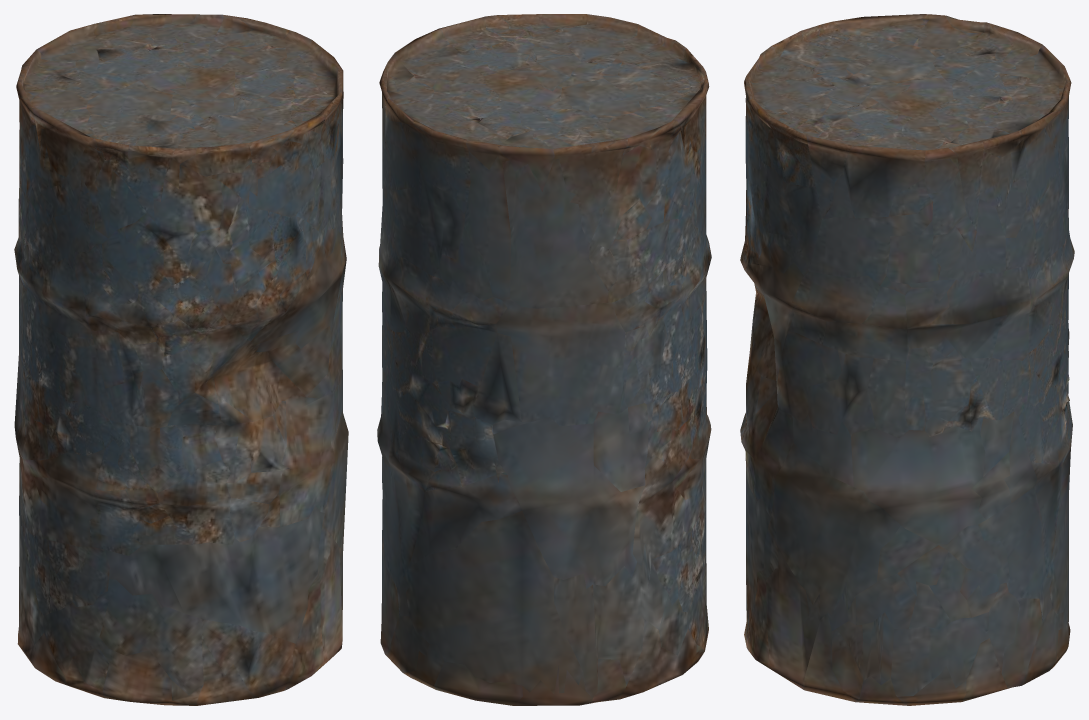
The model's file is barrel_low.glb.
3 views of the same model, side by side, from view 1: azimuth 30°, elevation 25°; view 2: azimuth 150°, elevation 25°; view 3: azimuth 270°, elevation 25° (orthographic).
Size of the model in its own units: 1.03 by 1.9 by 1.04.
1 material, 1 textured.
